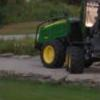Tractor: (26, 9, 100, 78)
